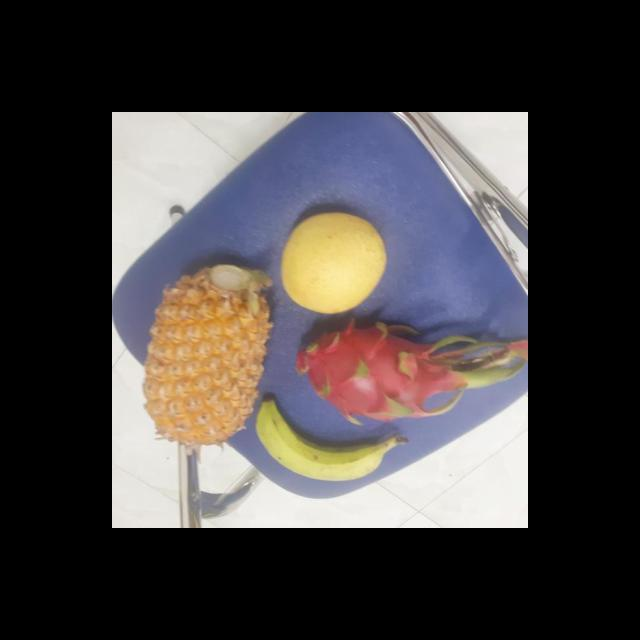banana: (251, 398, 393, 482)
pear: (275, 211, 388, 312)
pineapple: (138, 262, 274, 444)
pitaya: (284, 315, 458, 423)
